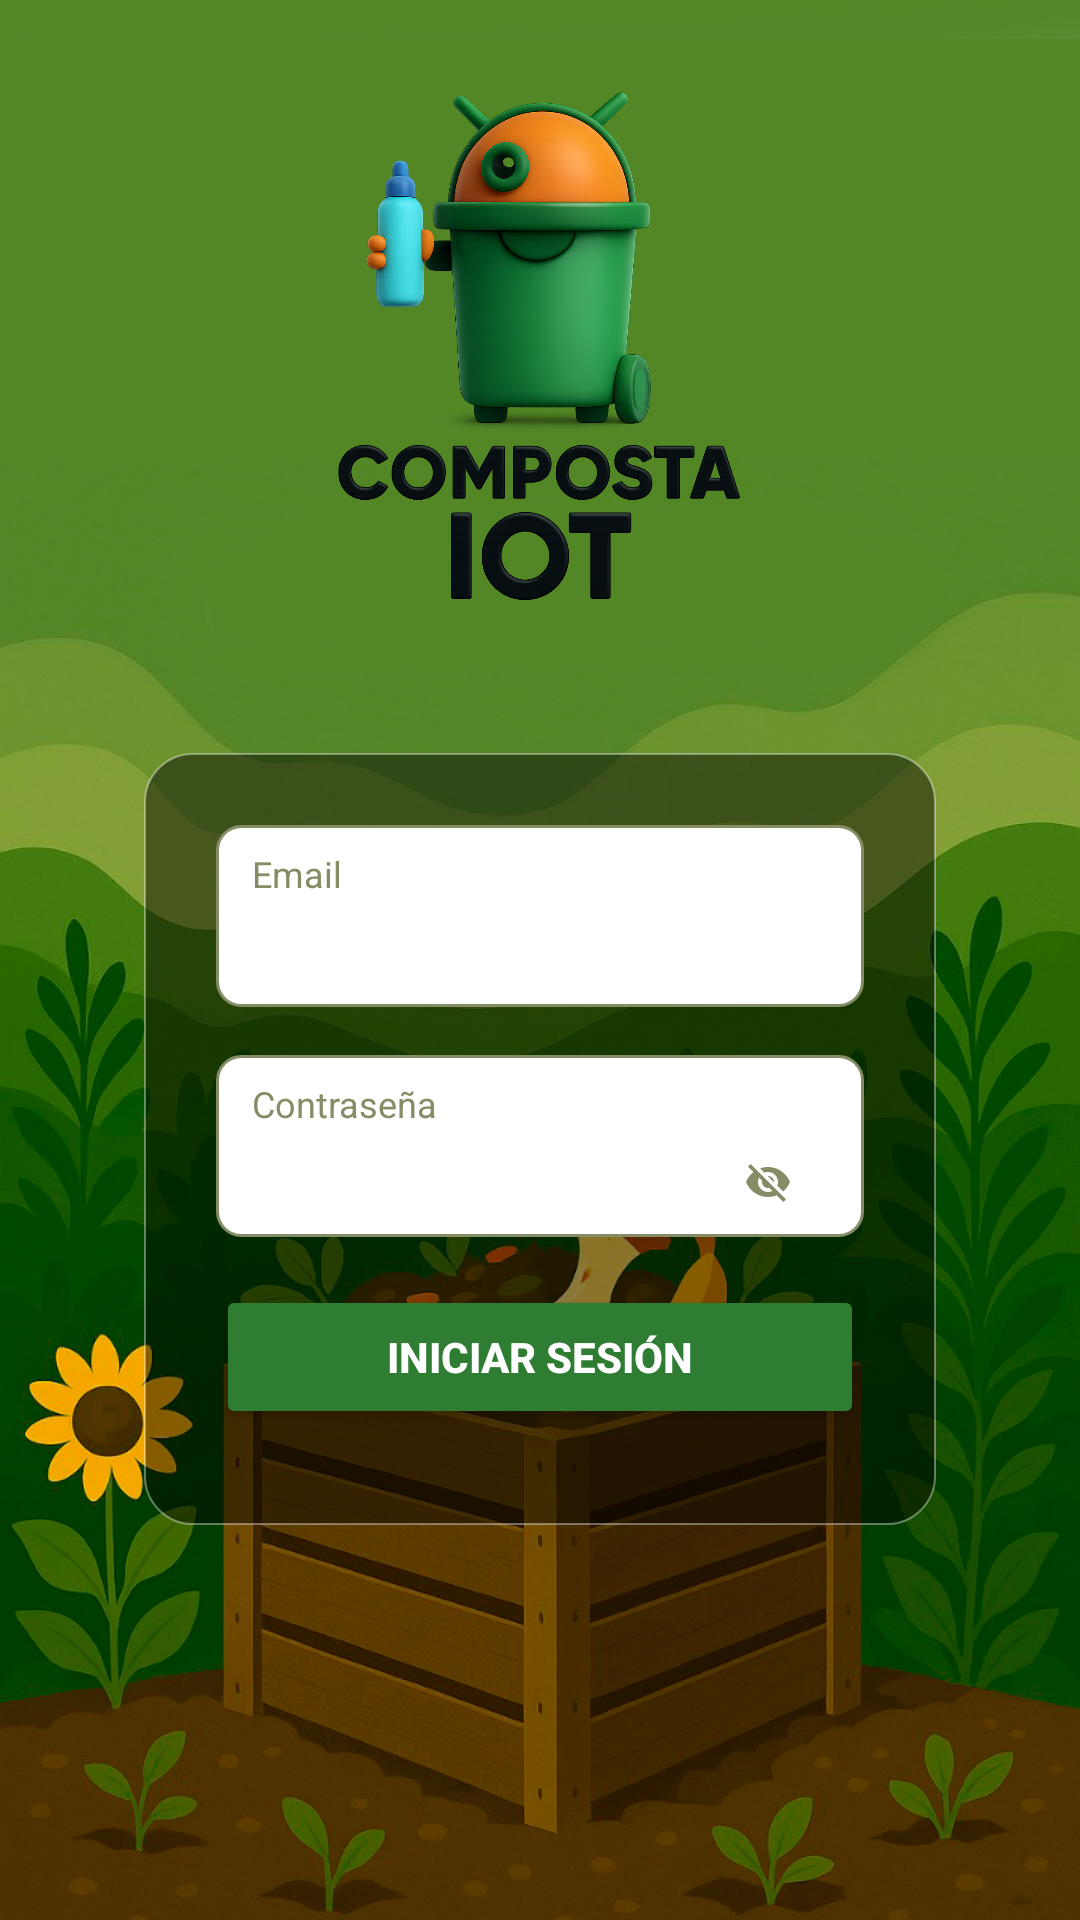

Icons on this 1080*1920 Android screen, each with its box as bbox=[x1, y1, x2, y2]:
Mostrar contraseña: bbox=[746, 1164, 790, 1202]
